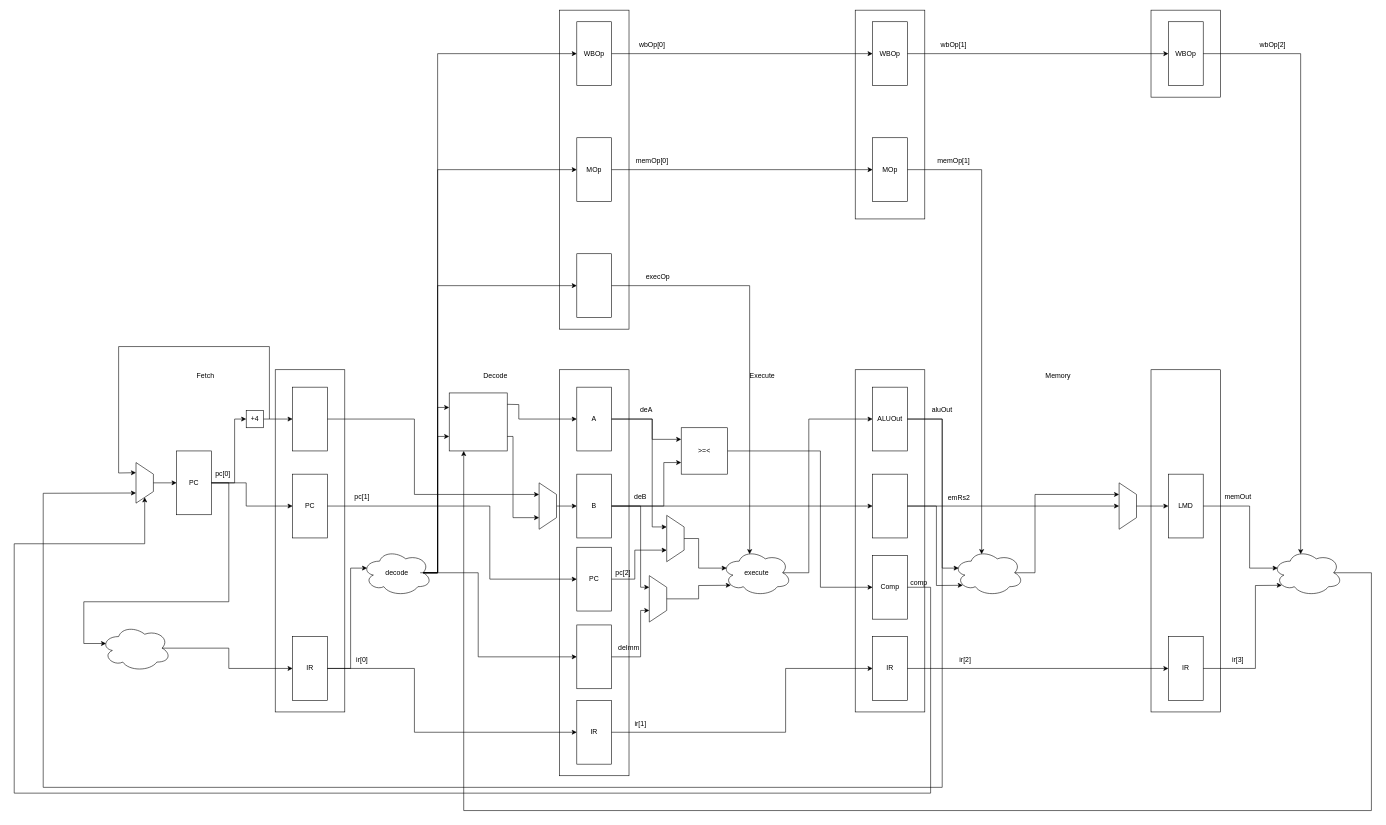
Image size: 1386x825. Some labels were removed from this diagram. Each missing label, with the centre of its shape:
"DMem" goes at (x=988, y=572).
"EOp" goes at (x=594, y=285).
"IMem" goes at (x=136, y=647).
"Imm" goes at (x=594, y=656).
"nPC" goes at (x=309, y=419).
"Regs" goes at (x=478, y=421).
"Rs2" goes at (x=889, y=506).
"write back" goes at (x=1307, y=572).
